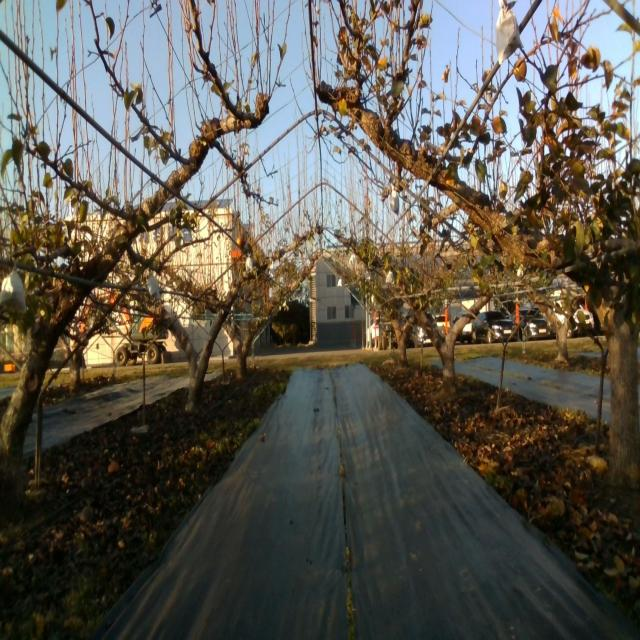pearbags: (494, 0, 524, 66), (0, 269, 27, 315), (147, 275, 161, 301)
